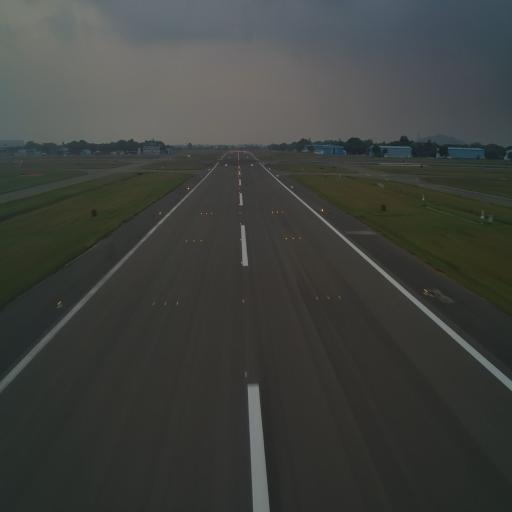on: (57, 297, 65, 314), (422, 284, 428, 294), (314, 291, 319, 303), (326, 292, 332, 300), (337, 293, 342, 302), (244, 369, 248, 379), (242, 297, 246, 306), (151, 300, 156, 307), (164, 300, 168, 308), (175, 299, 179, 307), (192, 238, 196, 243), (284, 236, 288, 241), (240, 260, 243, 266), (298, 234, 301, 240), (186, 238, 188, 244), (200, 238, 202, 244), (240, 237, 242, 242), (292, 236, 294, 241)
